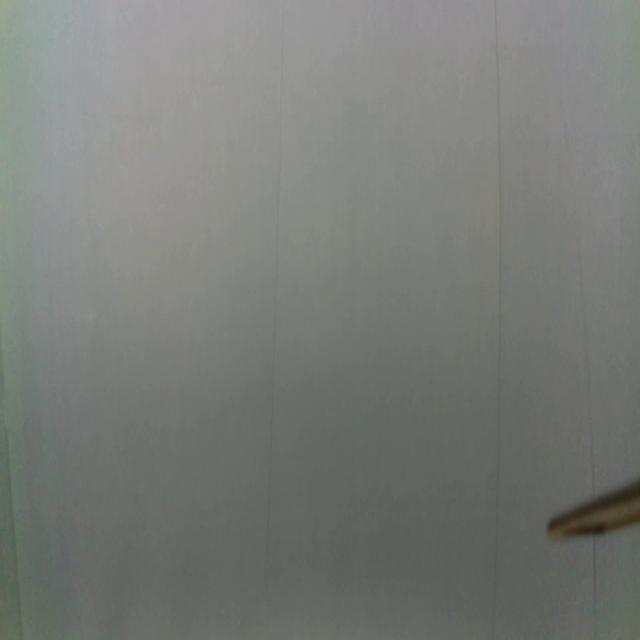crease: (264, 2, 286, 600), (490, 1, 505, 640), (573, 205, 597, 501), (4, 429, 23, 640), (591, 533, 598, 640)
